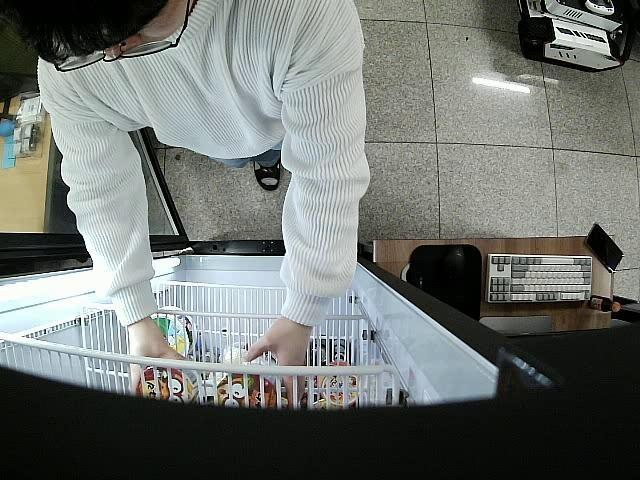06_nuguri_S: (136, 354, 200, 410), (215, 369, 284, 412)
